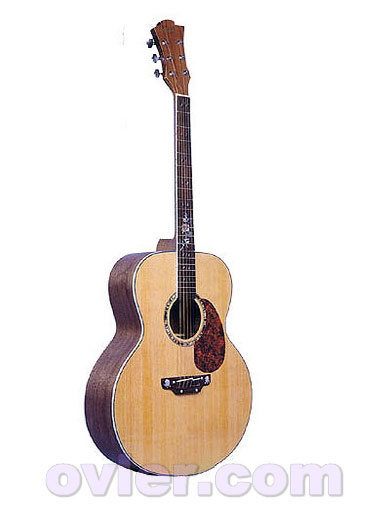guitar: (82, 18, 255, 480)
